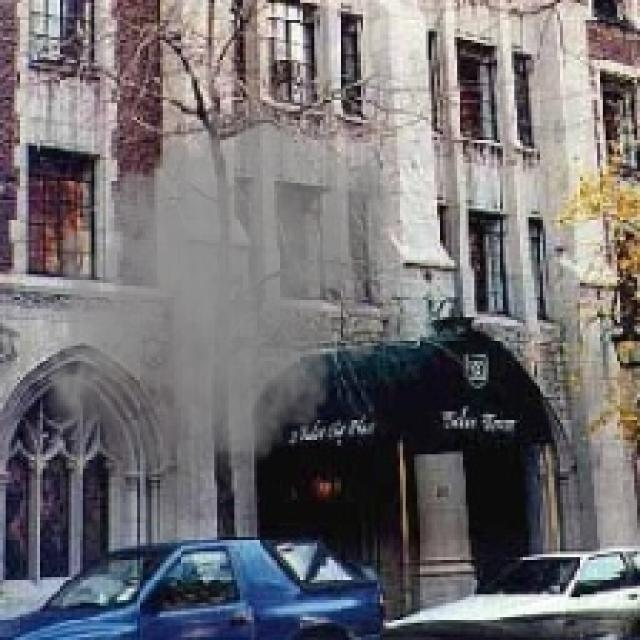smoke: (34, 92, 400, 514)
